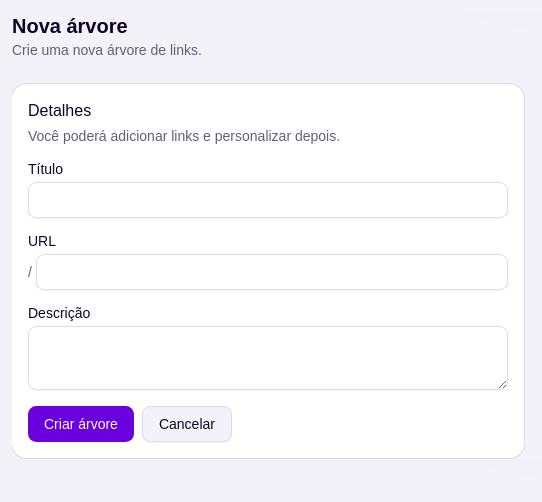
Test case: PageNewPage › mostra erro de URL em uso quando ha conflito
Type "Minha Árvore" into the field labelled "Título" at (268, 200), box [28,182,508,218]
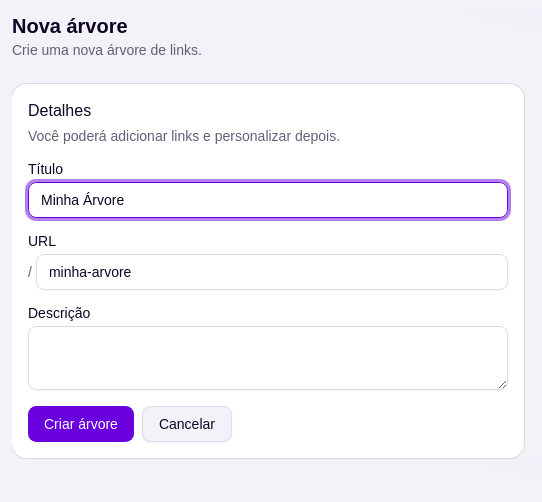
Click the button "Criar árvore" at (81, 424), box [28,406,134,442]
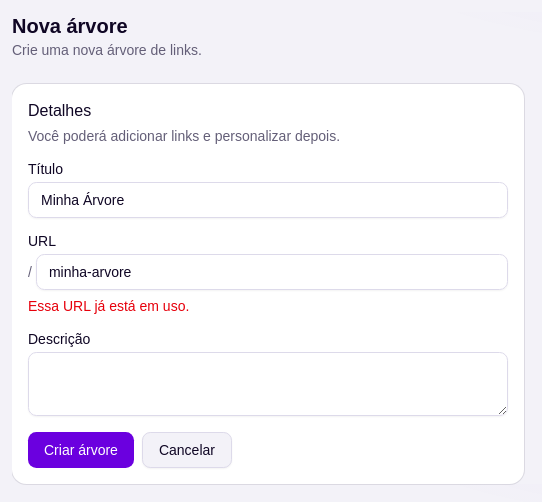
Expected: the text "Essa URL já está em uso." is shown, [28,298,189,314]
